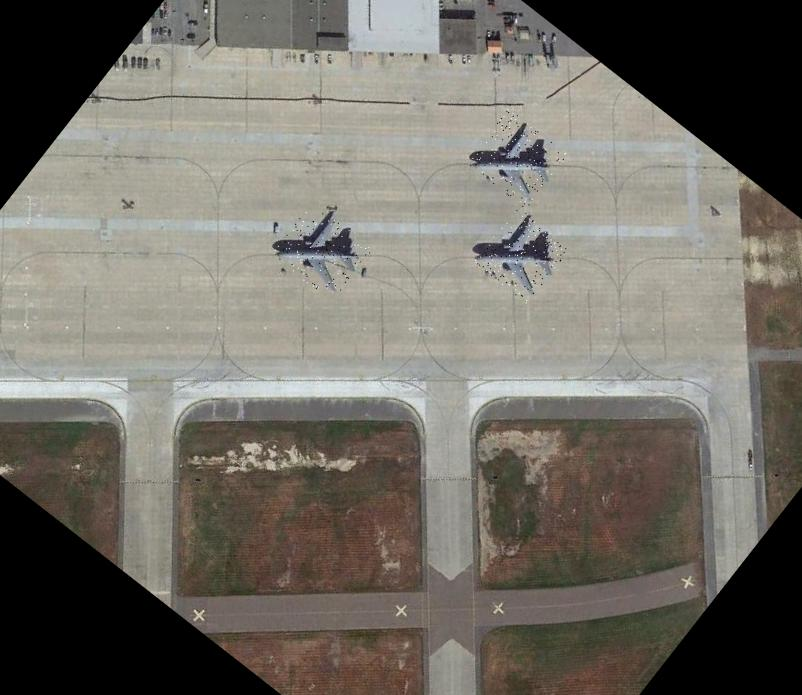A18: (466, 108, 568, 209), (270, 202, 373, 302), (473, 206, 570, 304)
